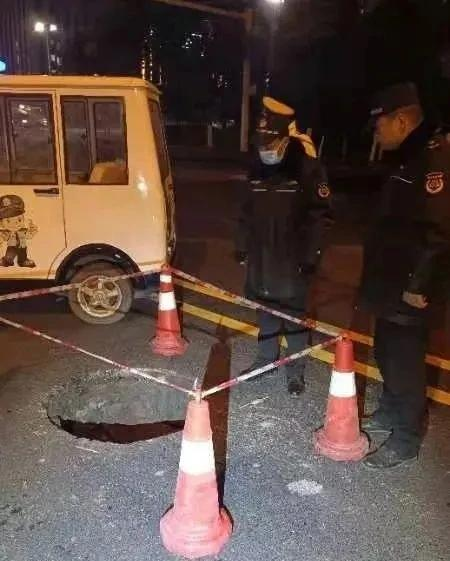wellcover: (27, 350, 208, 450)
